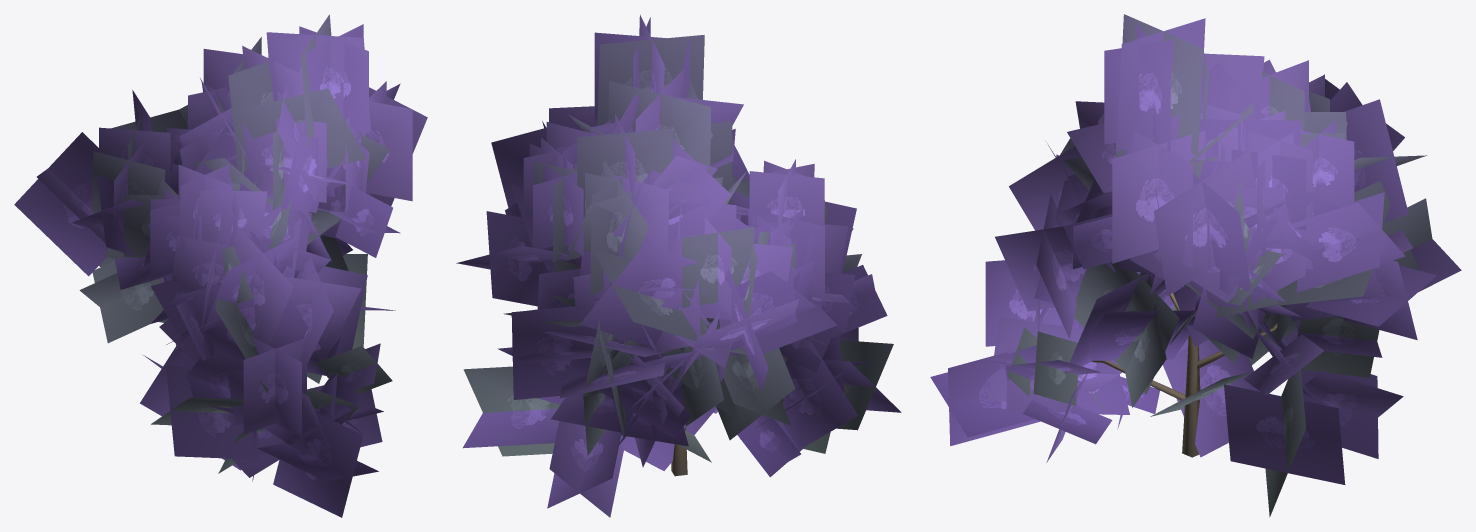
The model's file is jacaranda-muybajo.glb.
The picture shows the model from 3 angles, left to right: view 1: azimuth 30°, elevation 25°; view 2: azimuth 150°, elevation 25°; view 3: azimuth 270°, elevation 25°; orthographic projection. The views are drawn at different scales.
Parts seen in each view (by area): view 1: jacaranda; view 2: jacaranda; view 3: jacaranda.
Boxes of the visible parts, <box> form: jacaranda: <box>14,14,427,517</box>; jacaranda: <box>456,14,901,517</box>; jacaranda: <box>930,14,1461,517</box>.
Bounding box in the file's own units: 11.37 × 13.31 × 14.07.
2 materials, 1 textured.
